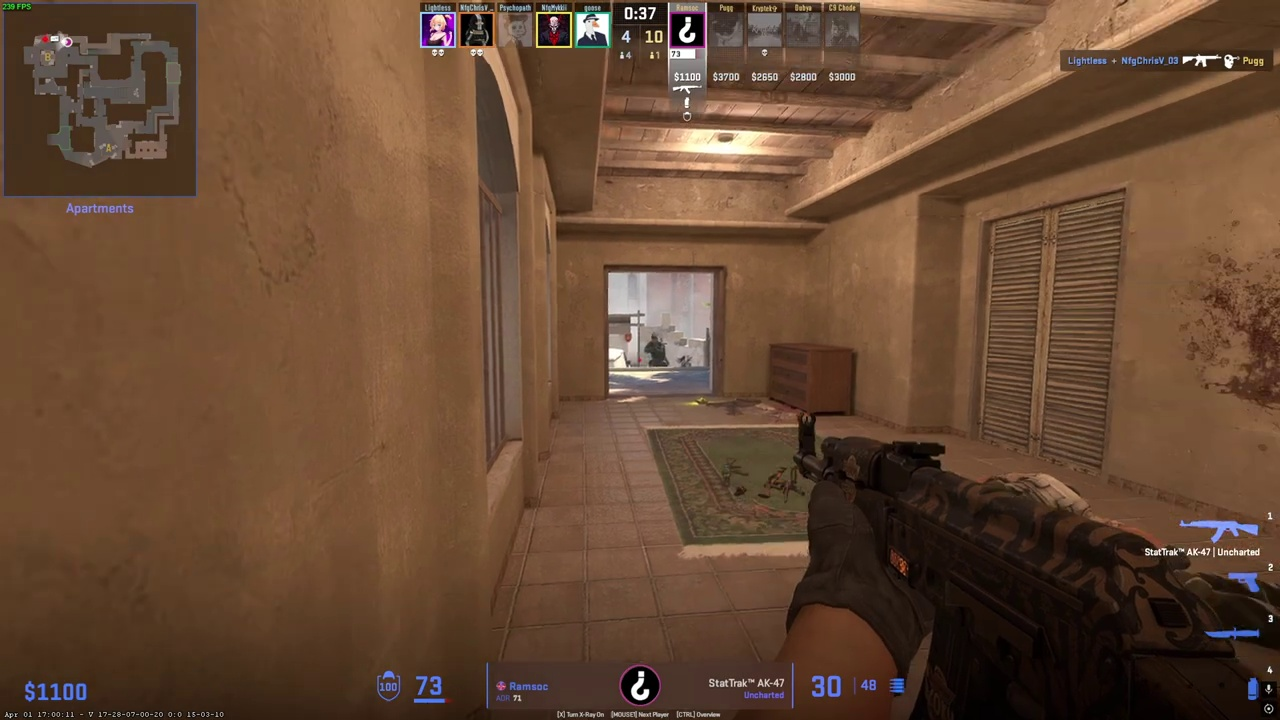CT: (644, 334, 667, 367)
